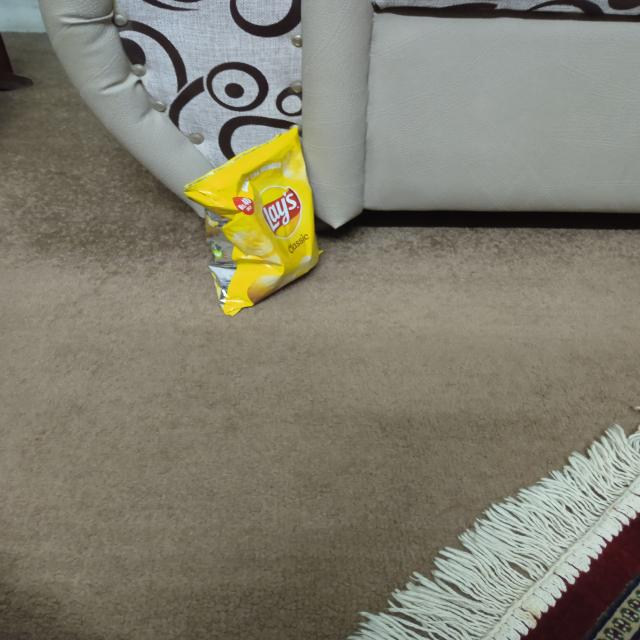Plastic: (178, 130, 329, 314)
